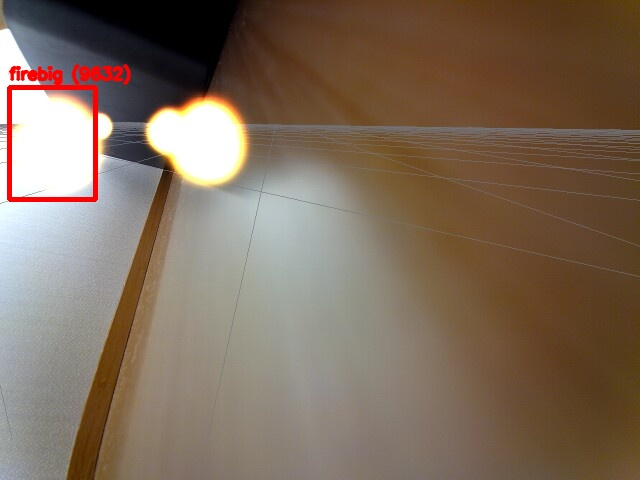firebig: (9, 87, 95, 199)
